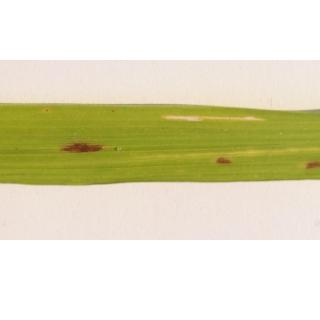bercak-Cokelat: (56, 132, 126, 162), (210, 151, 250, 169), (301, 158, 320, 174)
